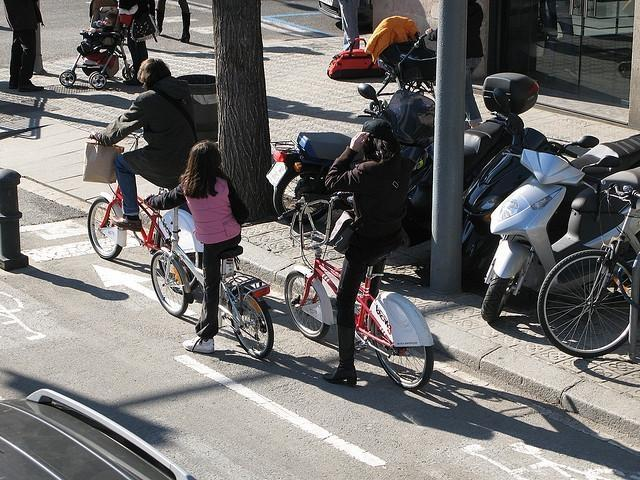bicycle: (282, 190, 428, 388), (148, 210, 277, 360), (537, 184, 640, 356), (86, 132, 169, 262)
car: (0, 387, 200, 480)
motorcycle: (358, 73, 538, 286), (480, 113, 640, 324), (458, 122, 582, 283), (281, 130, 343, 214)
